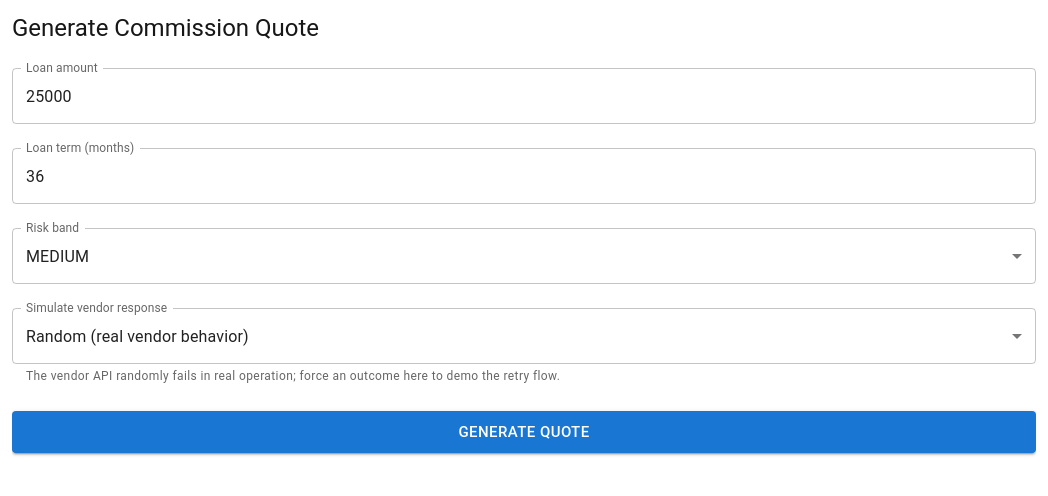
Test case: QuoteForm › shows a validation error for a non-positive loan amount and does not submit
Replace the text in the number field labelled "Loan amount" with "-100". click: (524, 96)
box: x1=12 y1=68 x2=1036 y2=124
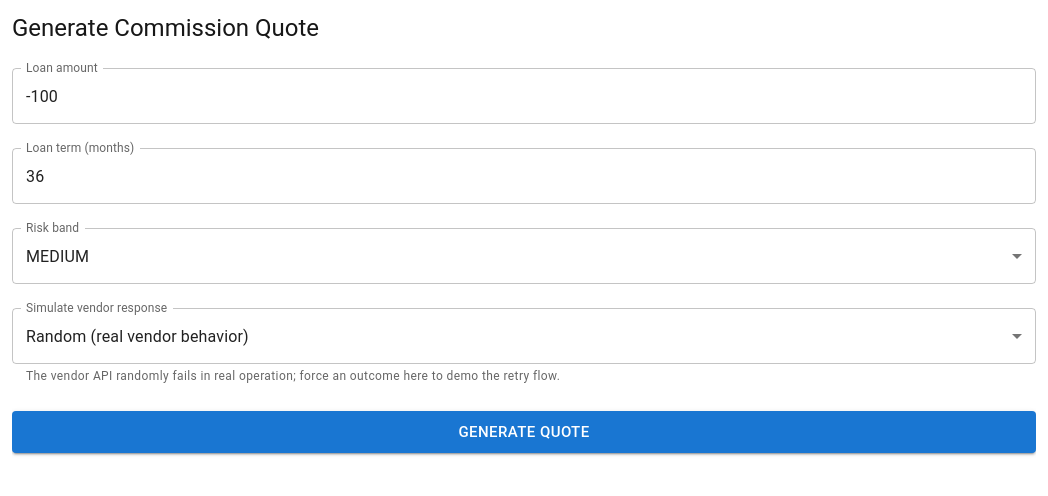
Click the button "Generate Quote". click: (524, 432)
box: x1=12 y1=411 x2=1036 y2=453
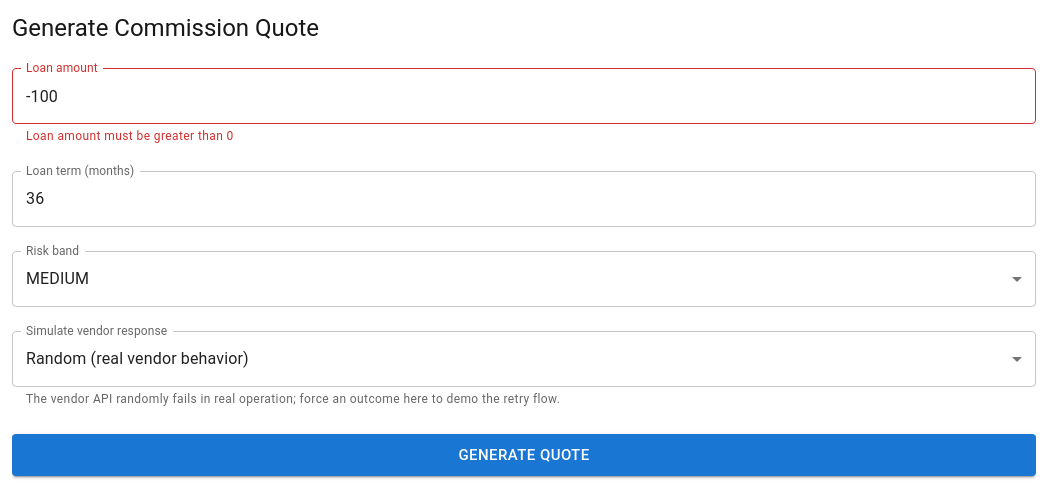
Check: the text "Loan amount must be greater than 0" is shown, box x1=26 y1=129 x2=234 y2=143
